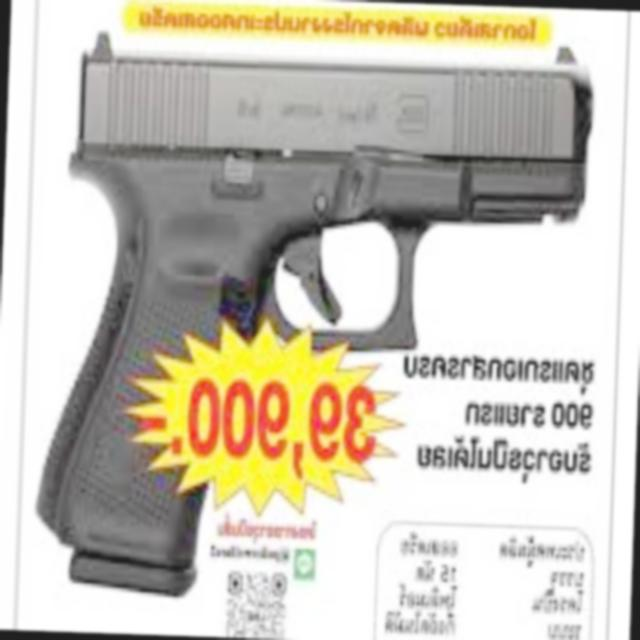semi automatic: (29, 25, 607, 618)
